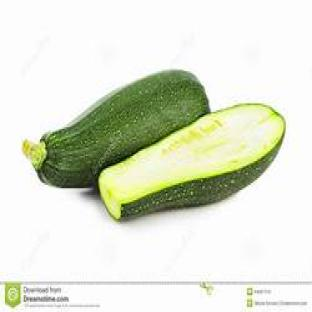Zucchini: (23, 70, 209, 188), (99, 104, 285, 218)
